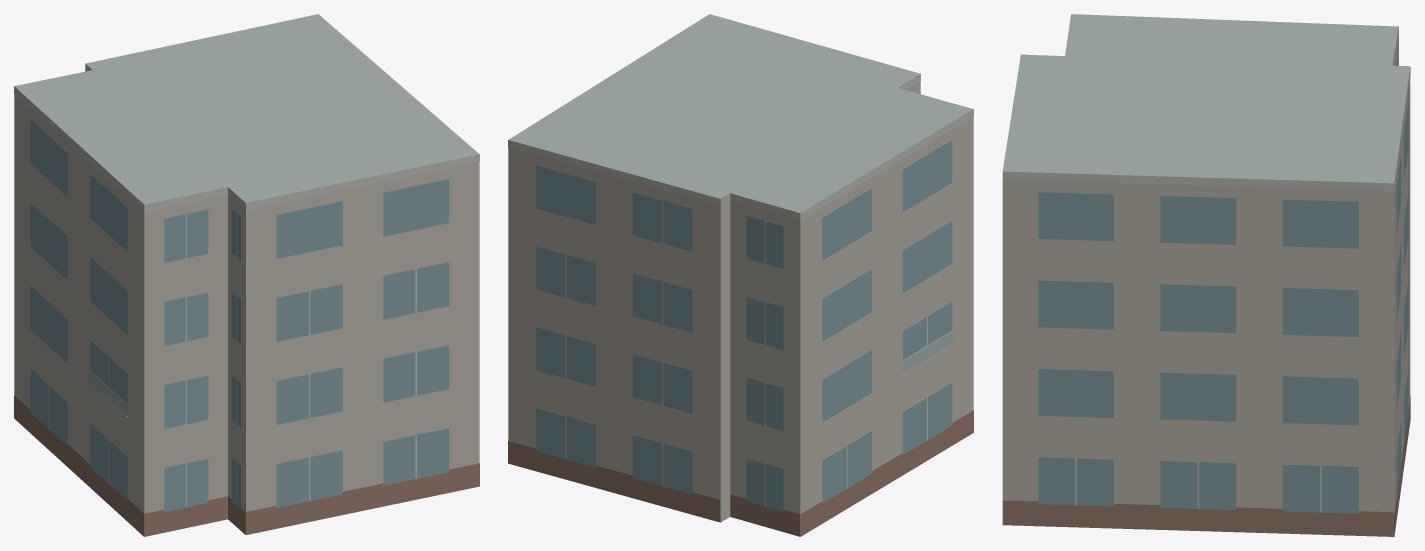
The model's file is survey-upis-32768652.glb.
3 renders of one model, left to right at view 1: azimuth 30°, elevation 25°; view 2: azimuth 150°, elevation 25°; view 3: azimuth 270°, elevation 25°, orthographic. The views are drawn at different scales.
Visible parts, largest first — view 1: survey-upis-32768652.tmp; view 2: survey-upis-32768652.tmp; view 3: survey-upis-32768652.tmp.
Boxes of the visible parts, x1,y1,x2,y2 form: survey-upis-32768652.tmp: [14, 14, 479, 536]; survey-upis-32768652.tmp: [508, 14, 973, 536]; survey-upis-32768652.tmp: [1002, 14, 1410, 536].
Bounding box in the file's own units: 11.31 × 11 × 11.51.
